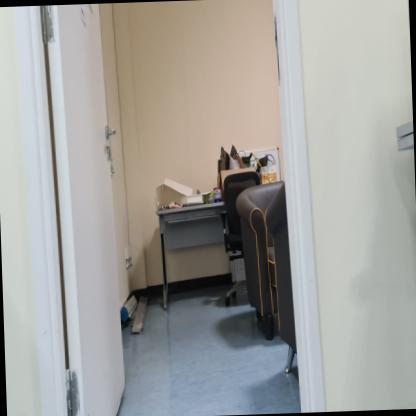open: (68, 0, 343, 414)
